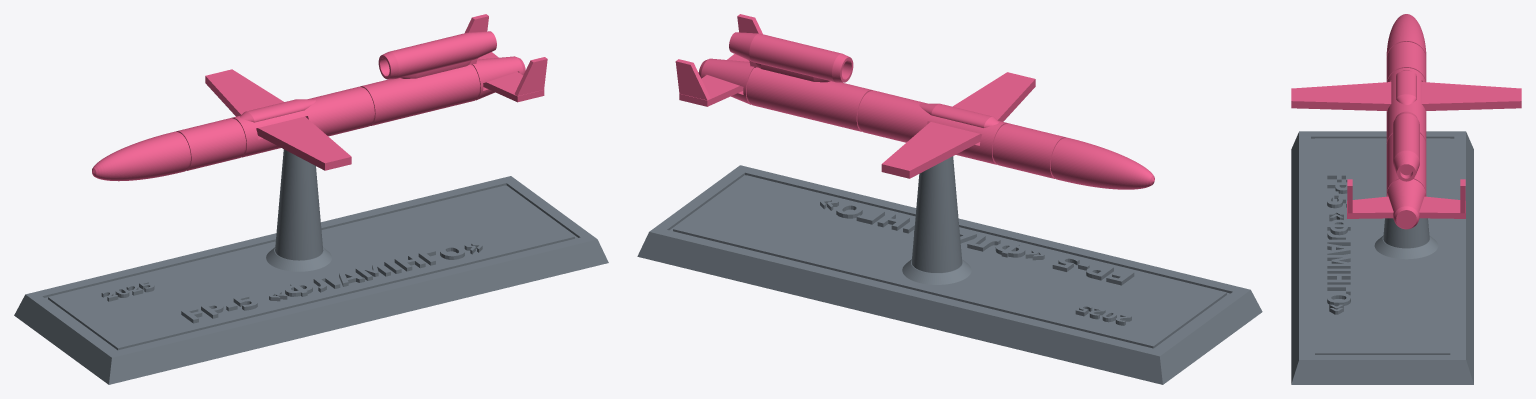
Rendered from flamingo.obj.
The picture shows the model from 3 angles, left to right: view 1: azimuth 30°, elevation 25°; view 2: azimuth 150°, elevation 25°; view 3: azimuth 270°, elevation 25°; orthographic projection. The views are drawn at different scales.
Visible parts, largest first — view 1: stand, fuselage, wing, tail; view 2: stand, fuselage, wing, tail; view 3: stand, fuselage, wing, tail.
Part boxes in pixels (bbox=[...]): stand: bbox=[14, 149, 608, 384]; fuselage: bbox=[92, 31, 525, 181]; wing: bbox=[205, 69, 351, 170]; tail: bbox=[465, 14, 547, 102]; stand: bbox=[637, 156, 1262, 384]; fuselage: bbox=[698, 32, 1154, 189]; wing: bbox=[881, 72, 1035, 178]; tail: bbox=[675, 14, 762, 106]; stand: bbox=[1291, 131, 1473, 384]; fuselage: bbox=[1386, 14, 1426, 229]; wing: bbox=[1291, 82, 1521, 110]; tail: bbox=[1347, 179, 1465, 218].
Bounding box in the file's own units: 0.14 × 0.0548 × 0.058.
